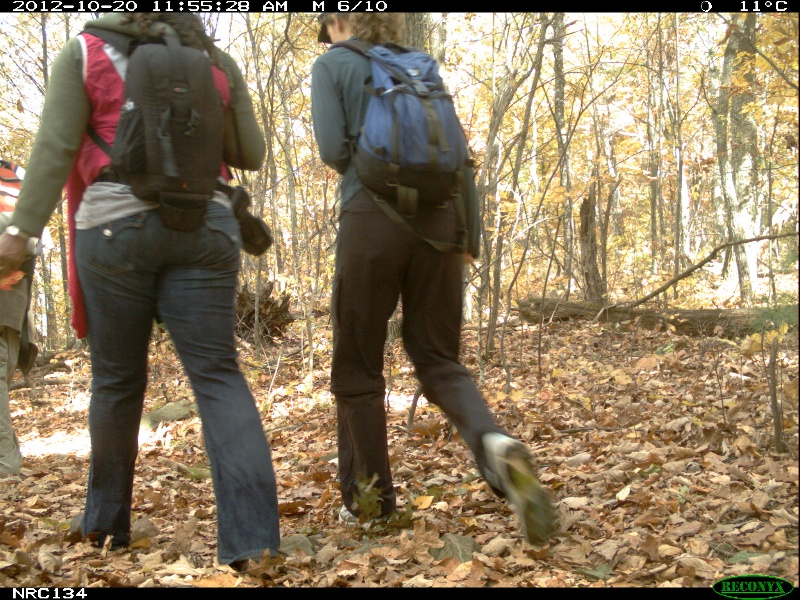human: (26, 16, 297, 576), (299, 14, 562, 552)
human face: (316, 19, 364, 50)
human legs: (58, 204, 302, 572), (322, 185, 558, 546)
